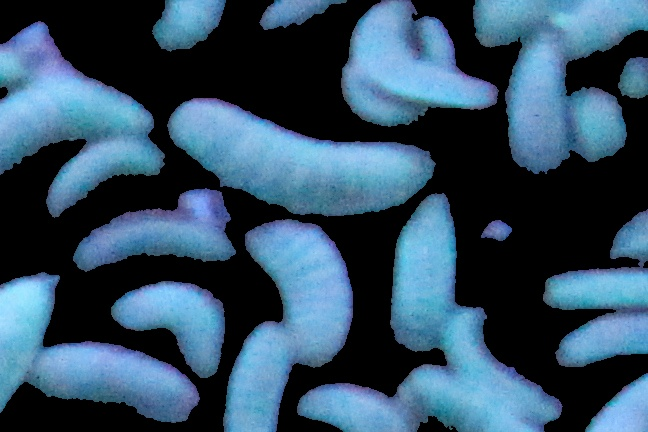larvae: (165, 99, 433, 215), (349, 1, 495, 112), (1, 70, 153, 175), (245, 218, 351, 359), (36, 345, 202, 432), (449, 310, 559, 422), (392, 196, 462, 354), (113, 282, 224, 373), (1, 270, 60, 432), (67, 213, 235, 269), (409, 368, 537, 432), (51, 147, 171, 214), (509, 48, 563, 191), (229, 320, 294, 432), (290, 382, 408, 432), (336, 61, 428, 125), (552, 308, 648, 366), (540, 264, 648, 315), (569, 89, 629, 174), (414, 15, 456, 70)
